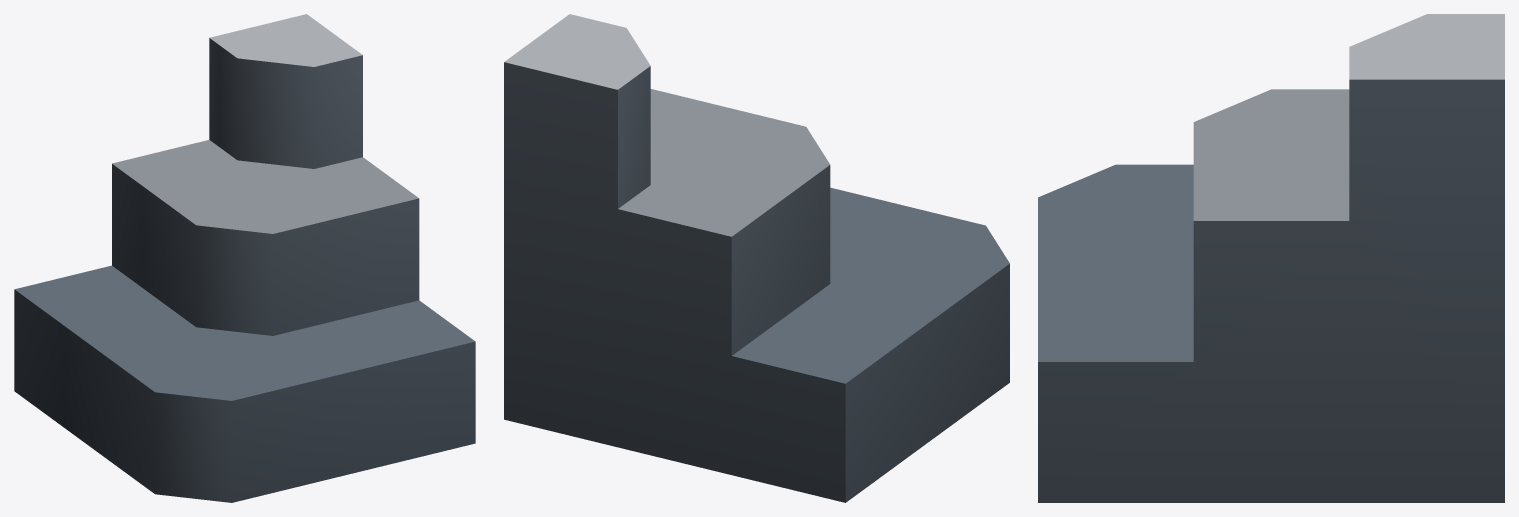
File: stairs-small-corner.glb
The picture shows the model from 3 angles, left to right: view 1: azimuth 30°, elevation 25°; view 2: azimuth 150°, elevation 25°; view 3: azimuth 270°, elevation 25°; orthographic projection. The views are drawn at different scales.
Parts seen in each view (by area): view 1: stairs-small-corner; view 2: stairs-small-corner; view 3: stairs-small-corner.
Boxes of the visible parts, x1,y1,x2,y2 form: stairs-small-corner: (14, 14, 475, 502); stairs-small-corner: (504, 14, 1009, 502); stairs-small-corner: (1038, 14, 1504, 502).
Bounding box in the file's own units: 0.3 × 0.3 × 0.3.
